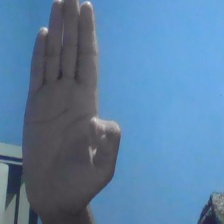B: (19, 1, 124, 217)
